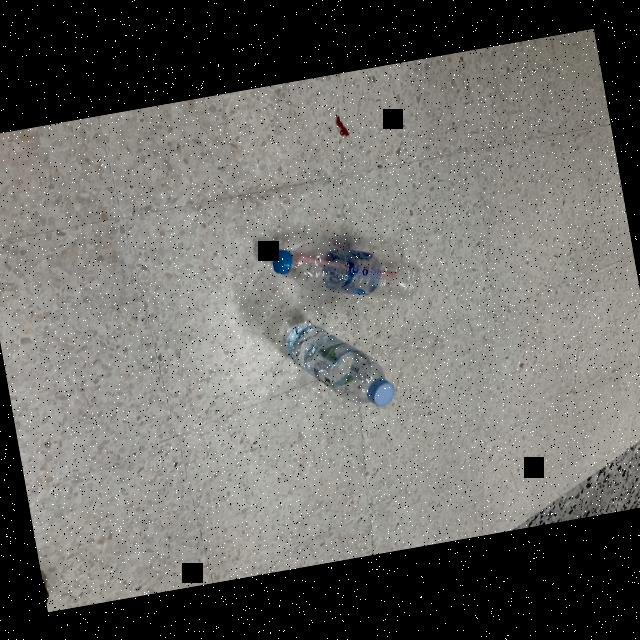plastic_bottle: (266, 222, 424, 322), (275, 306, 397, 422)
